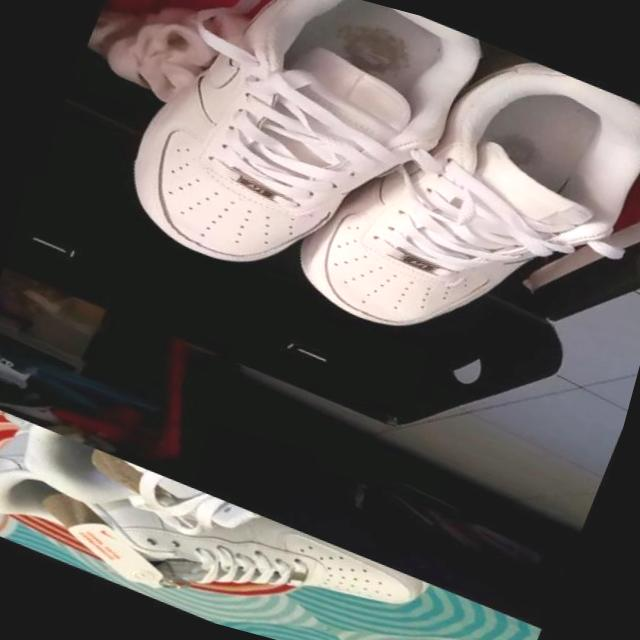nike_fake_airforce: (275, 0, 640, 408), (93, 0, 494, 334)
